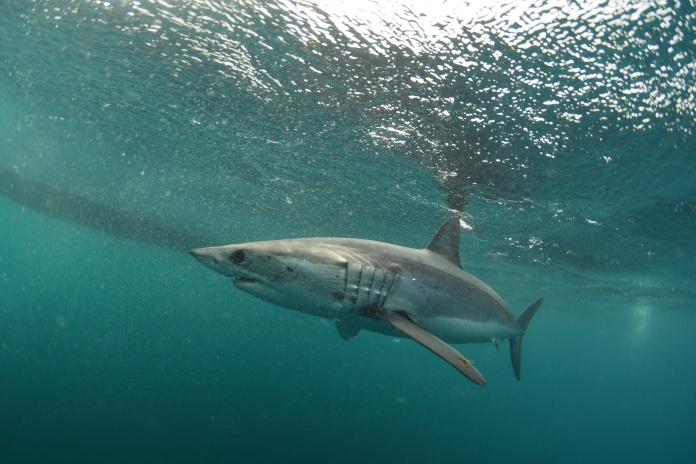Mako: (178, 202, 582, 414)
